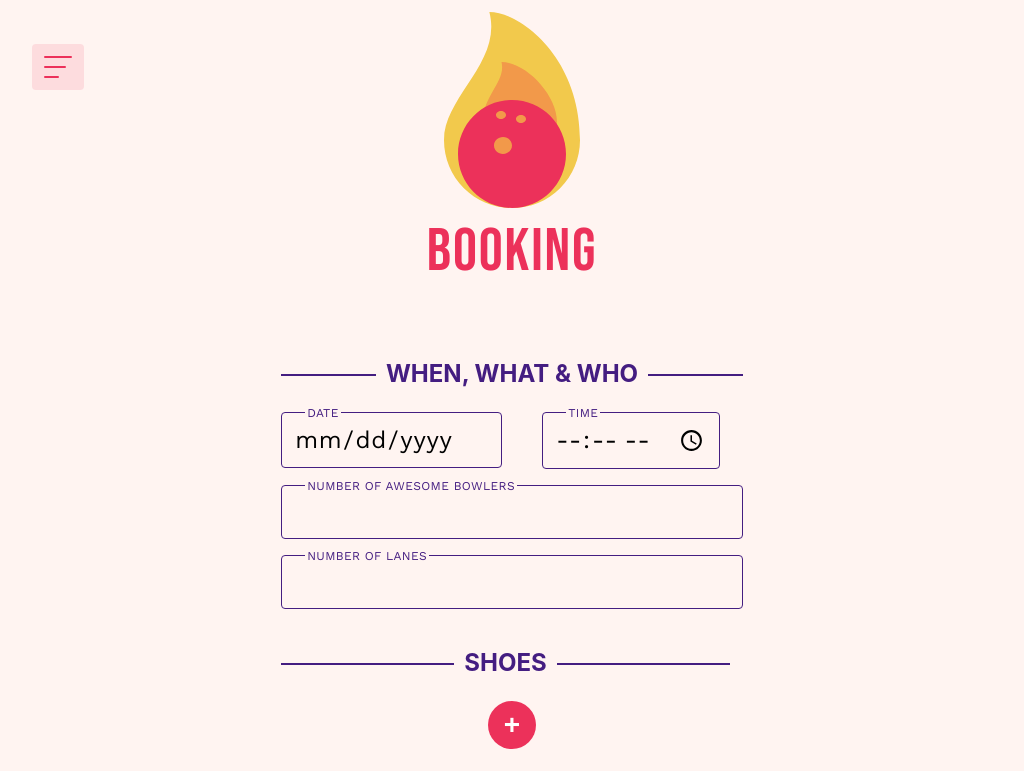
it: adds and removes shoe fields correctly
Click the button "+" at coordinates (512, 725), box [488,701,536,749]
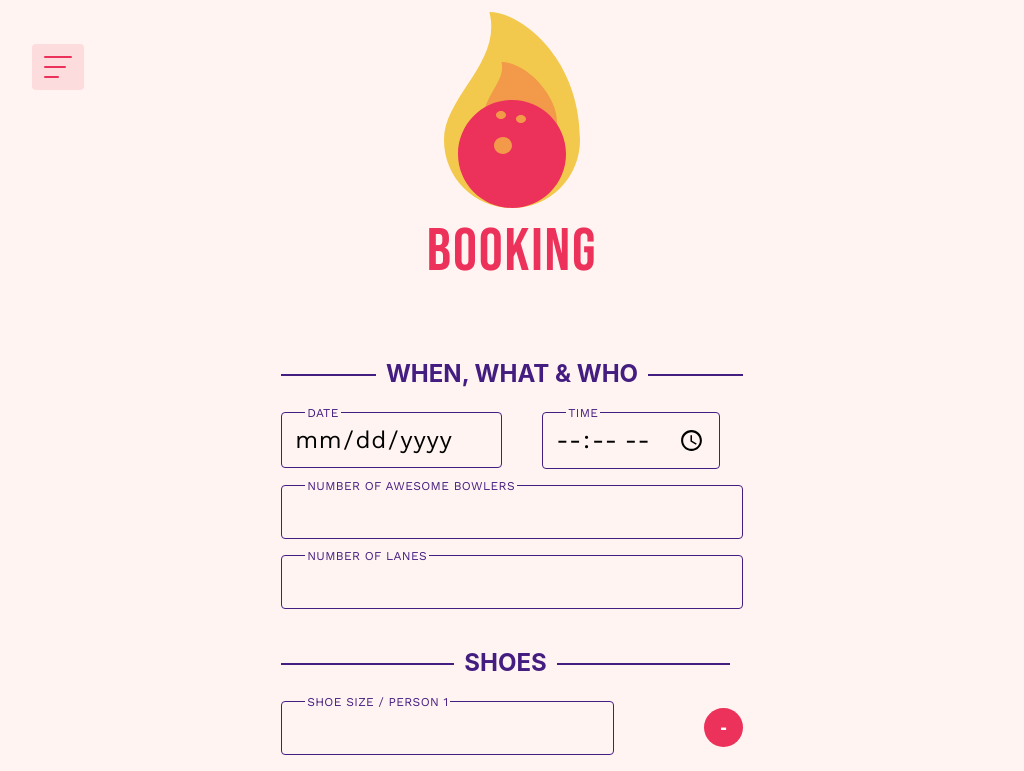
Expected: the number of fields is 1, [281,701,614,755]
Click the button "-" at coordinates (724, 728), box [704,708,743,747]
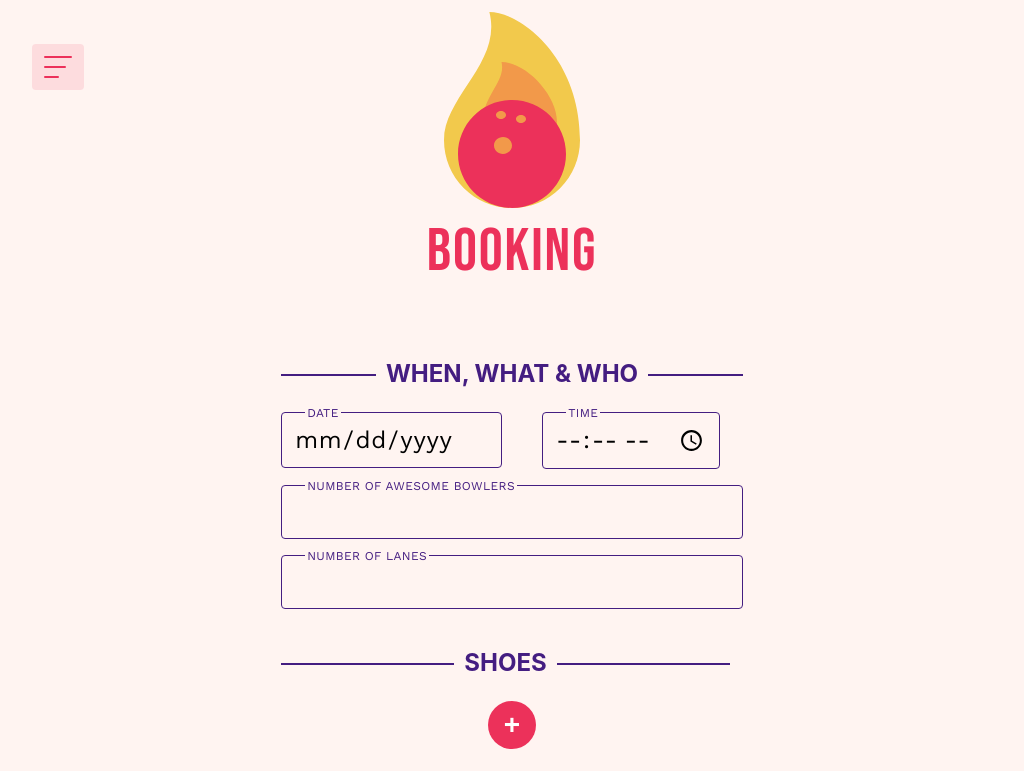
Expected: the field is gone
